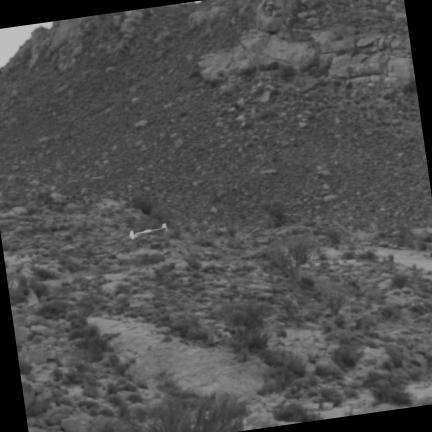Shahed: (129, 223, 167, 239)
